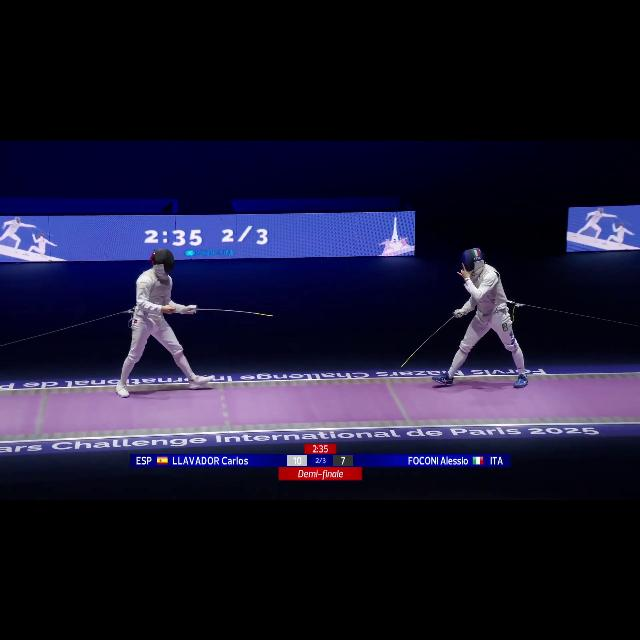blade: (396, 308, 462, 370)
